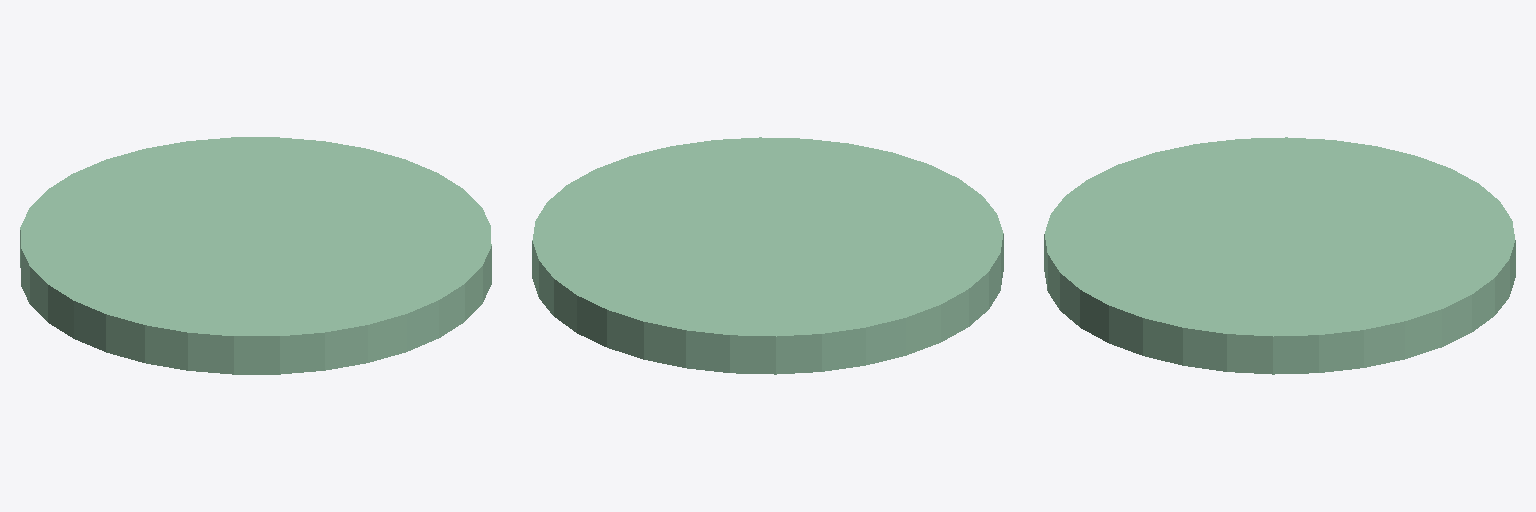
URDF robot description (Interference):
<?xml version="1.0"?>
<robot name="Interference">
  <link name="baseLink">
    <inertial>
      <origin xyz="0.0 0.0 0.0" rpy="0.0 0.0 0.0"/>
      <inertia ixx="0.0" ixy="0.0" ixz="0.0" iyy="0.0" iyz="0.0" izz="0.0"/>
      <mass value="0"/>
    </inertial>
    <visual>
      <origin xyz="0.0 0.0 0.0" rpy="0.0 0.0 1.1485754190036235"/>
      <geometry>
        <cylinder radius="0.05613911805431859" length="0.01"/>
      </geometry>
      <material name="color">
        <color rgba="0.6516344192657523 0.8141211304618758 0.7078735776491218 1.0"/>
      </material>
    </visual>
  </link>
</robot>

--- What the picture shows (computed from the rendered views, not written in the file) ---
3 views of the same robot in one strip: view 1: azimuth 30°, elevation 25°; view 2: azimuth 150°, elevation 25°; view 3: azimuth 270°, elevation 25° (orthographic).
Model Interference with 1 links and 0 joints (none), rooted at baseLink, posed all joints at 0.
Visible links, largest first — view 1: baseLink; view 2: baseLink; view 3: baseLink.
Boxes of the visible links, left/top/right/bottom form: baseLink: left=20, top=137, right=491, bottom=374; baseLink: left=532, top=137, right=1003, bottom=374; baseLink: left=1044, top=137, right=1515, bottom=374.
Size in the robot's own frame: 0.1122 by 0.1122 by 0.01 metres.
Geometry: primitives only (box / cylinder / sphere), no mesh files.